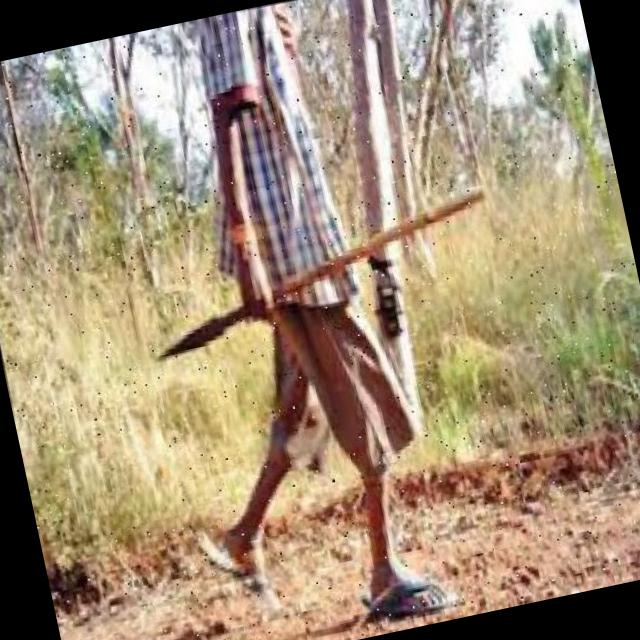poacher: (184, 0, 486, 630)
weapon: (114, 120, 542, 400)
